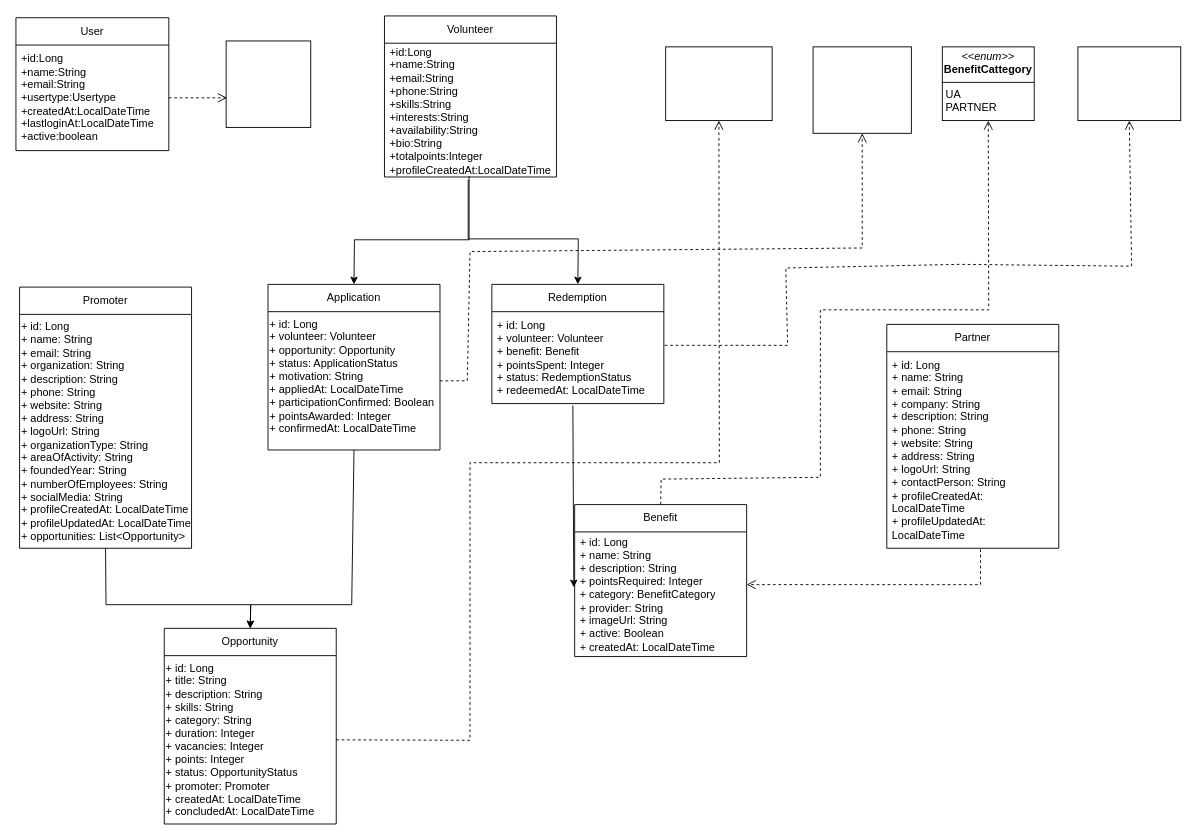
Image size: 1197x840. Some labels were removed from this diagram. The centre of each missing label's shape, as x and y in pixels:
"<<enum>> ApplictionStatus PENDING REJECTED ACCEPTED" goes at point 861,89.
"<<enum>> OpportunityStatus OPEN CONCLUDED" goes at point 718,83.
"<<enum>> RedemptionStatus REJECTED CANCELED" goes at point 1129,83.
"<<enum>> UserType VOLUNTEER PROMOTER PARTNER" goes at point 268,83.
